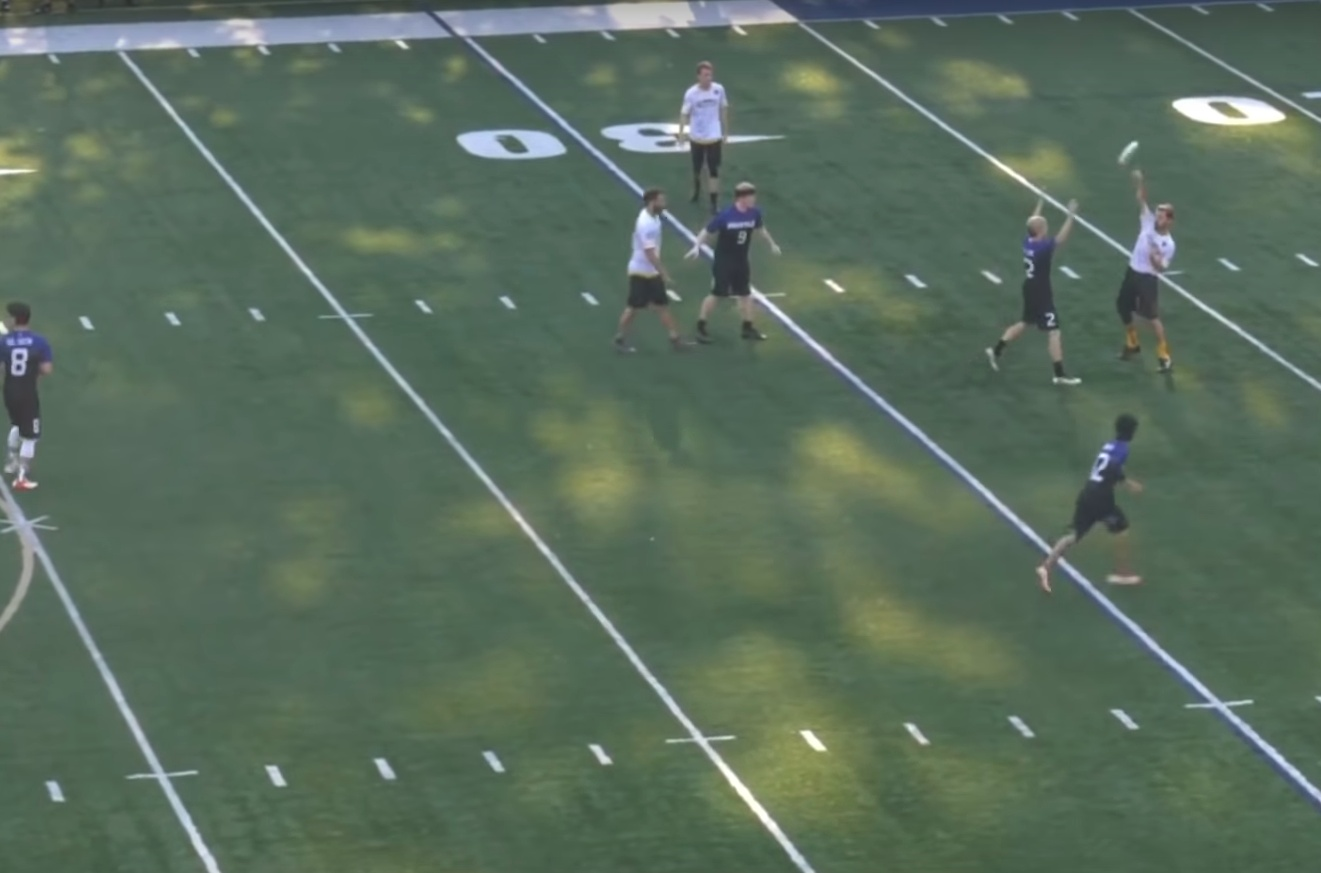frisbee: (1118, 140, 1139, 165)
